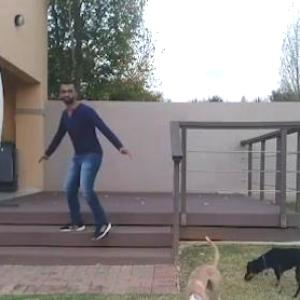land: (47, 81, 122, 247)
